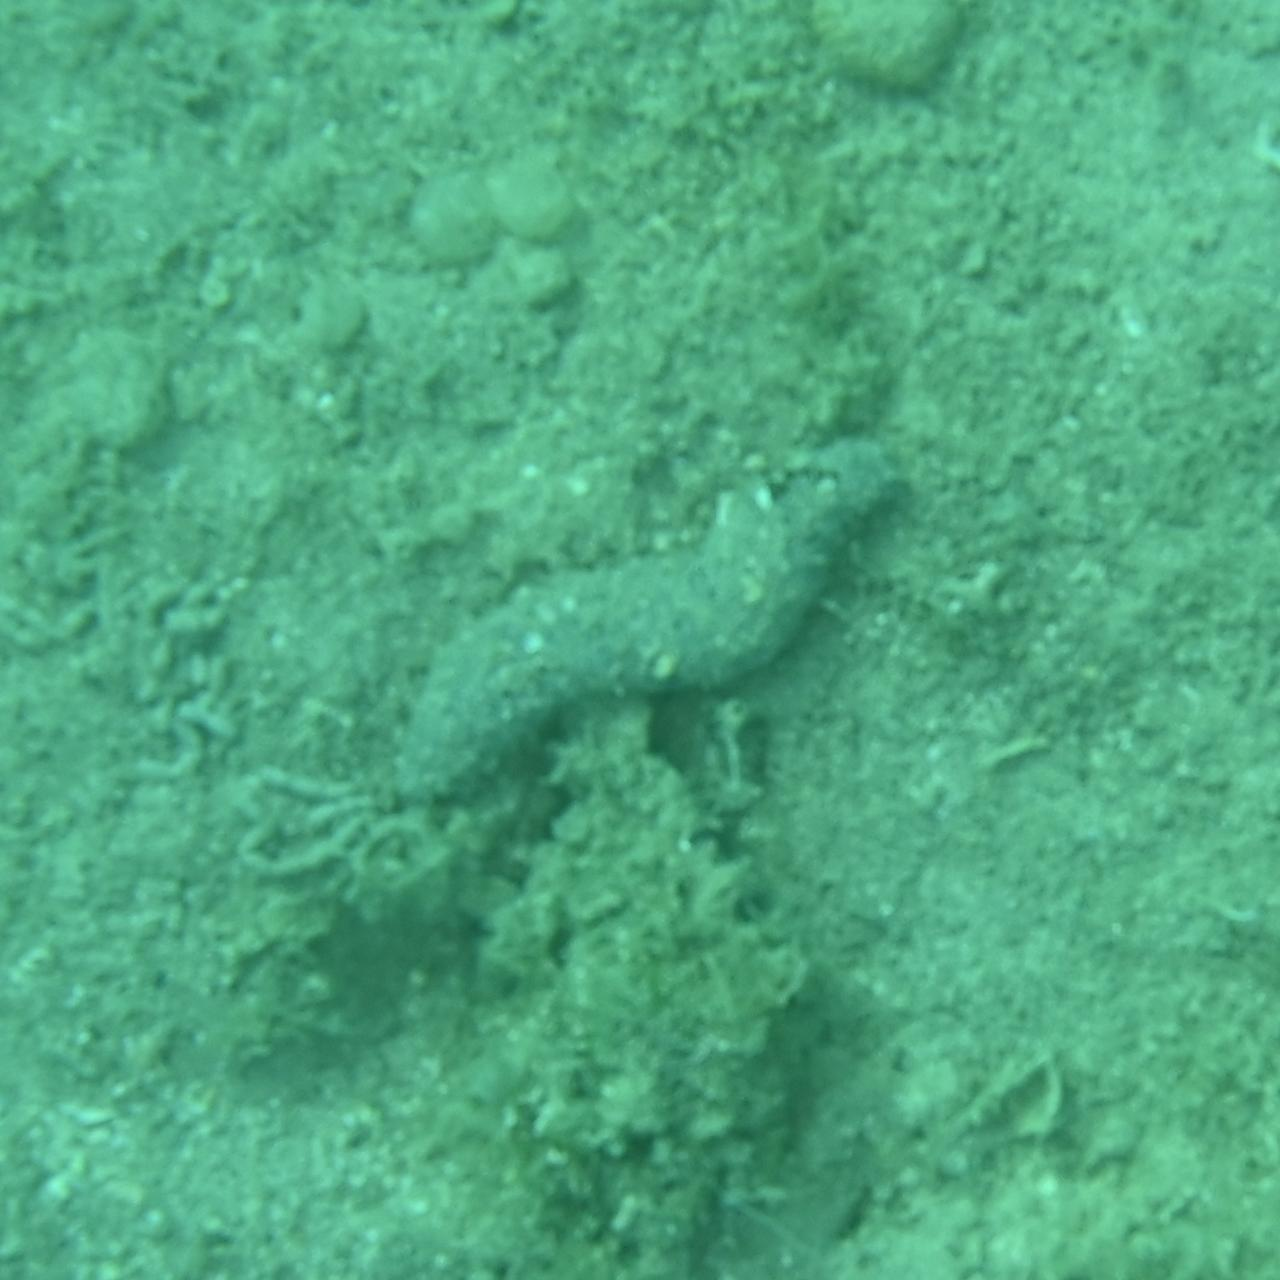Holothuria tubulosa: (366, 448, 914, 832)
